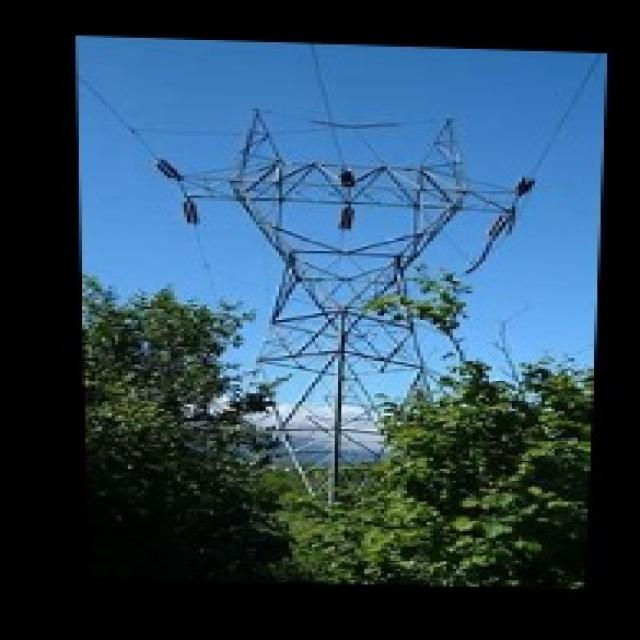utility poles: (357, 277, 516, 415), (182, 302, 310, 463)
